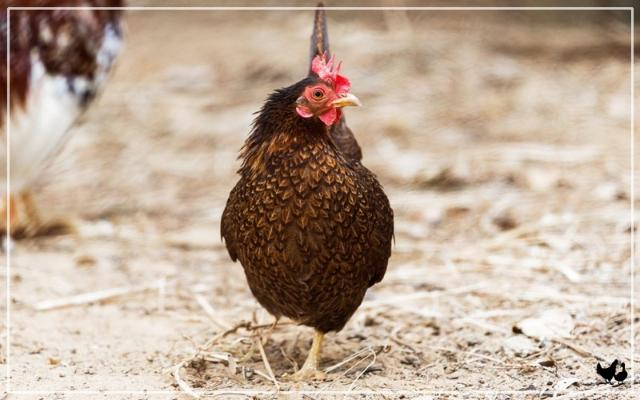Chicken: (219, 3, 395, 383)
